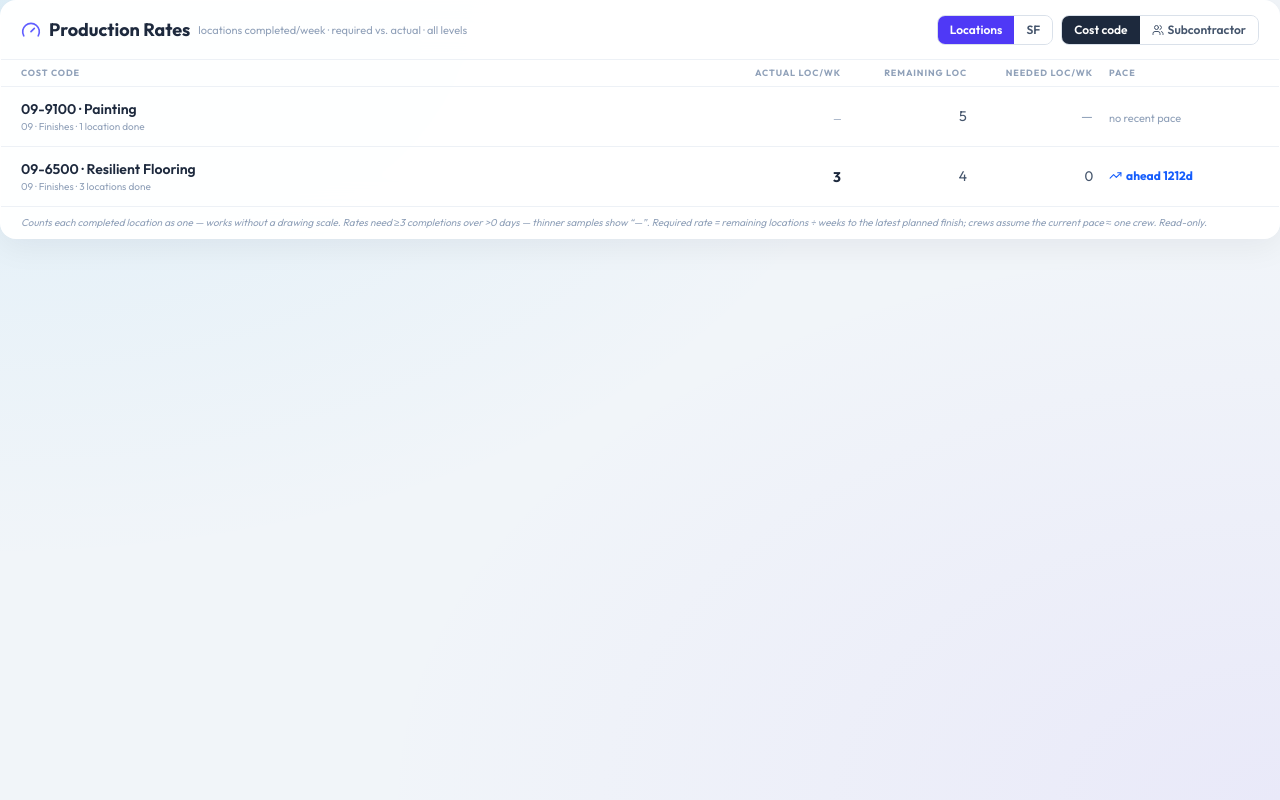
ProductionRates › switches to SF and surfaces the square-foot rate
Click the button "SF": (1033, 30) [1014, 16, 1052, 44]
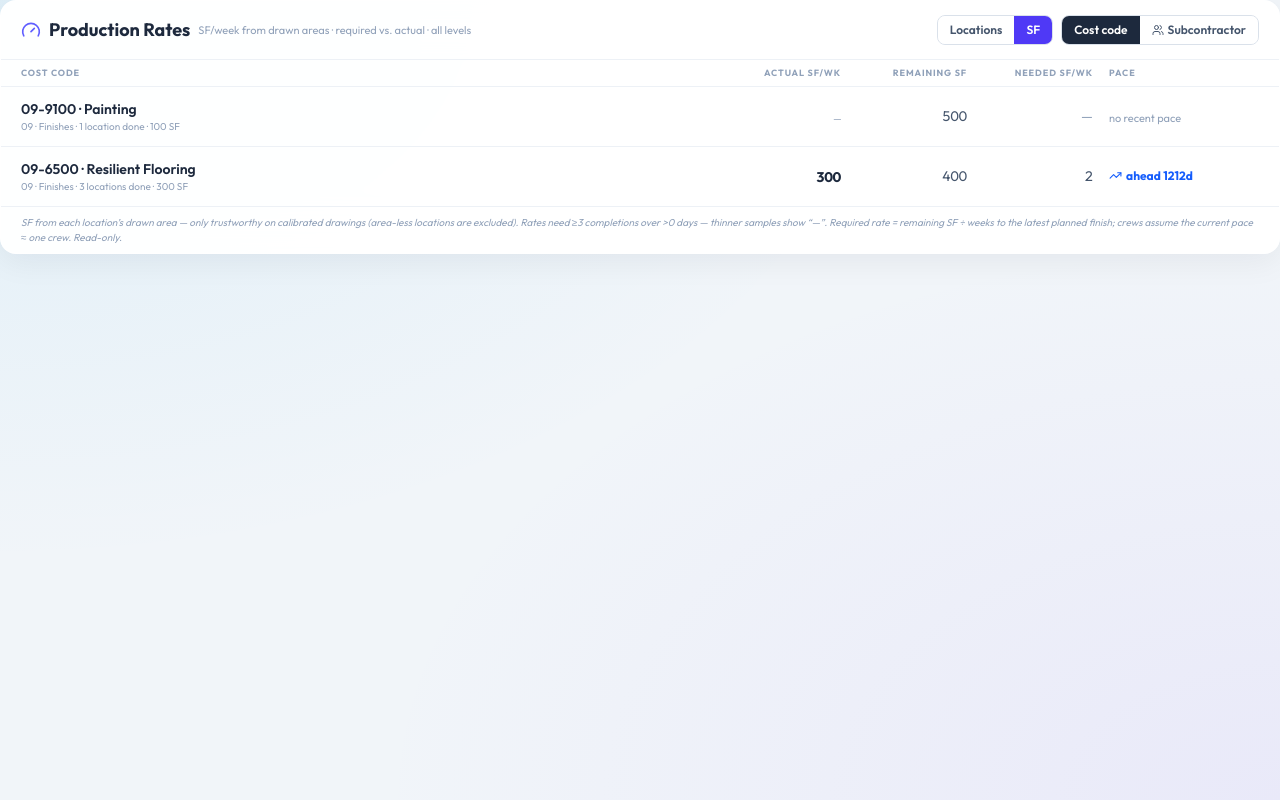
Expected: the text "Actual SF/wk" is shown, [764, 67, 841, 78]
Expected: the text "09 · Finishes · 3 locations done · 300 SF" is shown, [21, 180, 188, 192]
